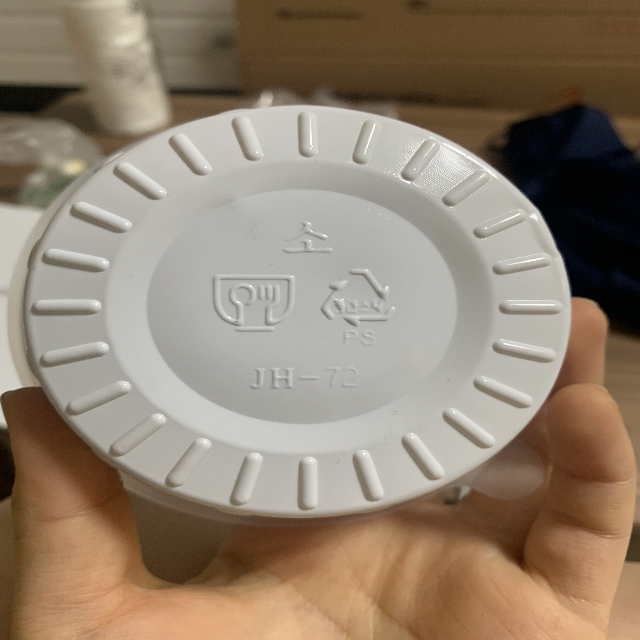ps: (317, 259, 407, 350)
